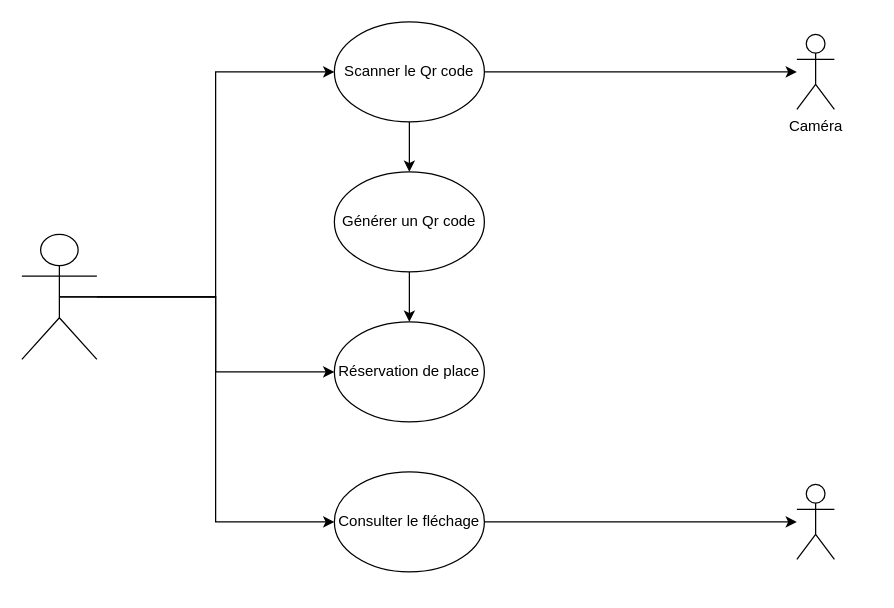
Some shapes in this 894 by 608 pixel diagram are drawn without their labels. Here are the shapes that lost their labels. From the top down, the centre of each, then its label:
At point (59, 296): "Client".
At point (815, 521): "Journal lumineux".
